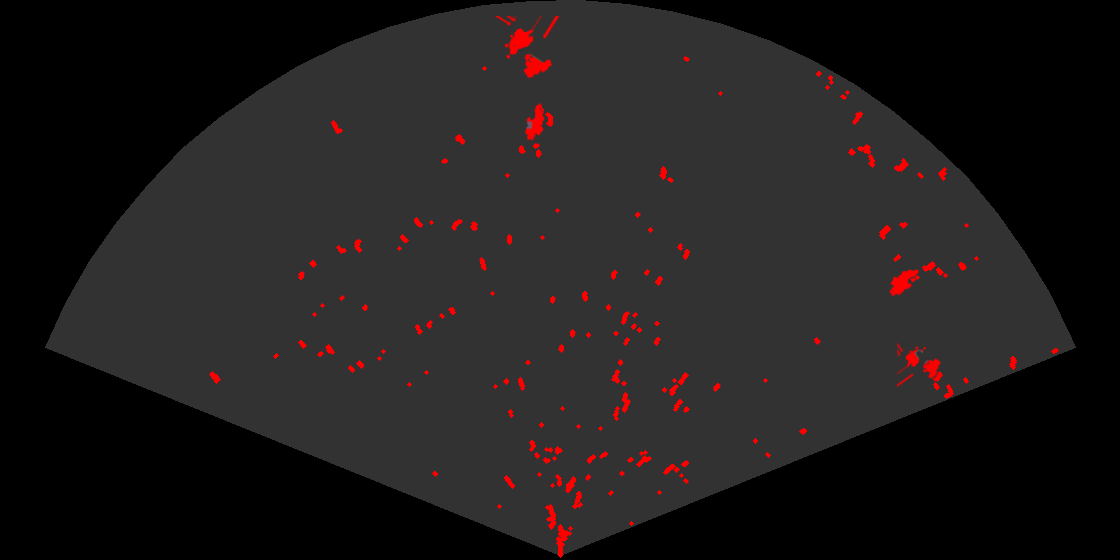AUV: (888, 268, 921, 298), (523, 103, 546, 142)
cage: (493, 16, 561, 80), (897, 341, 942, 389)
